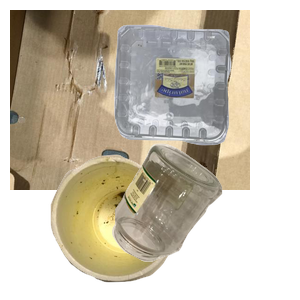cardboard: (10, 10, 250, 190)
glass: (110, 141, 300, 300)
plastic: (112, 22, 300, 160)
trash: (48, 152, 219, 300)
